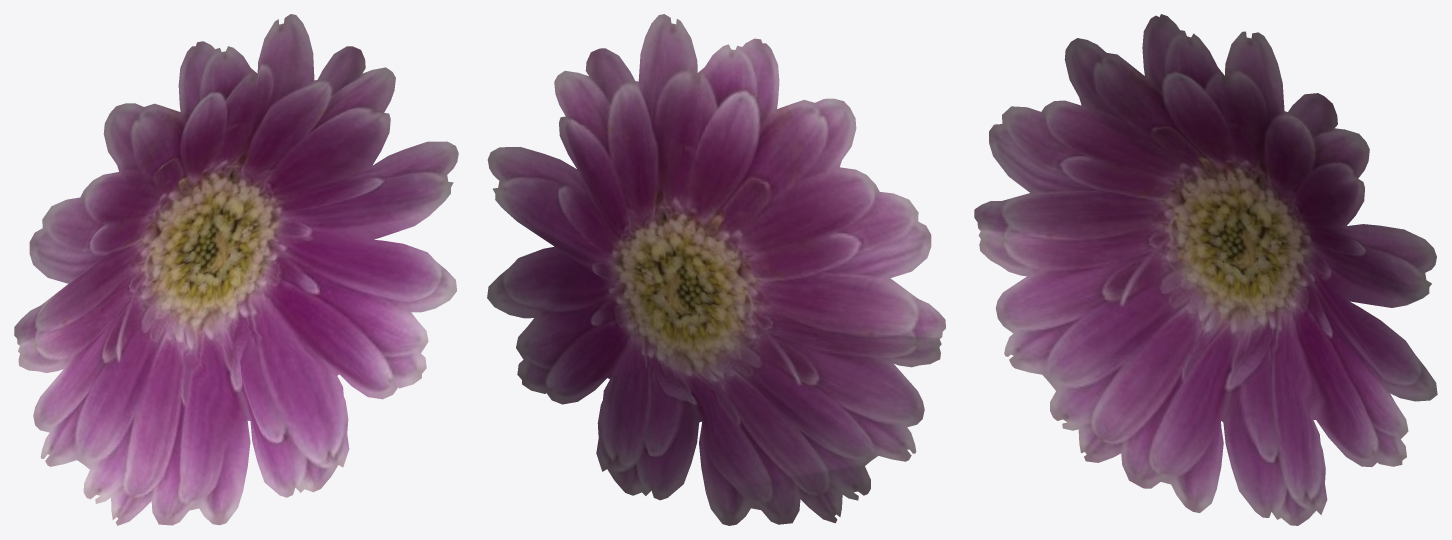
3 views of the same model, side by side, from view 1: azimuth 30°, elevation 25°; view 2: azimuth 150°, elevation 25°; view 3: azimuth 330°, elevation 25° (orthographic).
Parts seen in each view (by area): view 1: Plane.005; view 2: Plane.005; view 3: Plane.005.
Boxes of the visible parts, left/top/right/bottom form: Plane.005: left=14, top=14, right=458, bottom=525; Plane.005: left=487, top=14, right=945, bottom=525; Plane.005: left=974, top=14, right=1437, bottom=525.
Size of the model in its own units: 1.12 by 1.17 by 0.1495.
Materials: 1 (1 with a texture image).
